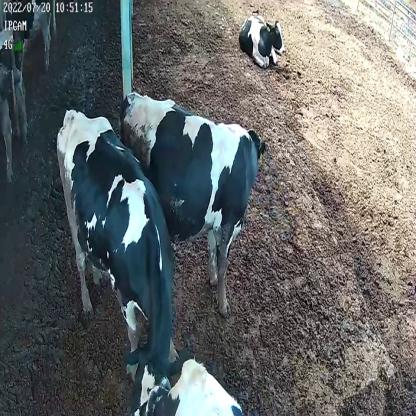cow: (53, 107, 188, 416), (118, 84, 268, 316), (236, 9, 287, 71)
